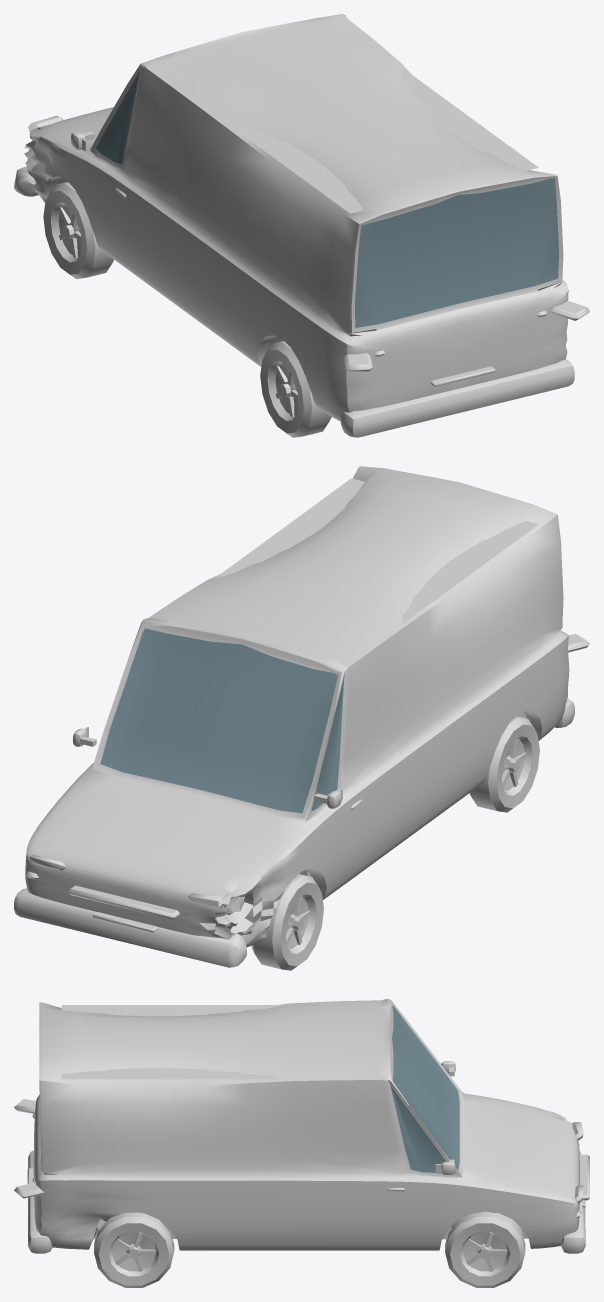
File: car_van_dmg1.glb
The picture shows the model from 3 angles, top to bottom: view 1: azimuth 30°, elevation 25°; view 2: azimuth 150°, elevation 25°; view 3: azimuth 270°, elevation 25°; orthographic projection. The views are drawn at different scales.
Visible parts, largest first — view 1: car_van_dmg1; view 2: car_van_dmg1; view 3: car_van_dmg1.
Boxes of the visible parts, x1=… form: car_van_dmg1: x1=14, y1=14, x2=589, y2=437; car_van_dmg1: x1=14, y1=466, x2=589, y2=970; car_van_dmg1: x1=14, y1=999, x2=589, y2=1287.
Size of the model in its own units: 2.22 by 2.07 by 5.17.
